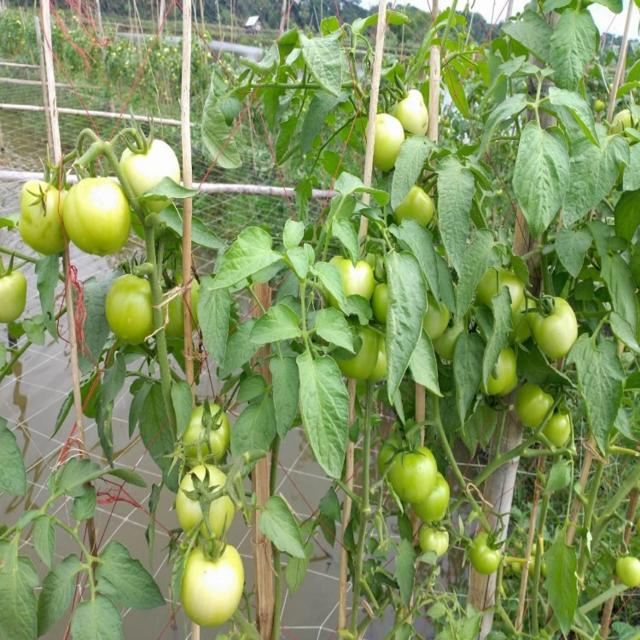tomato: (61, 176, 135, 254), (189, 540, 245, 630), (179, 469, 235, 541), (109, 277, 155, 345), (25, 180, 67, 254), (536, 295, 581, 363), (385, 444, 435, 505), (121, 137, 181, 184), (187, 407, 226, 463), (516, 384, 553, 432), (351, 322, 378, 386), (372, 109, 401, 167), (417, 300, 455, 343), (401, 87, 430, 142), (469, 532, 502, 580), (1, 270, 27, 325), (339, 256, 375, 295), (424, 478, 452, 526), (408, 186, 440, 226), (370, 278, 395, 329), (545, 410, 576, 446), (495, 350, 519, 393), (421, 522, 448, 556), (621, 558, 640, 587)
